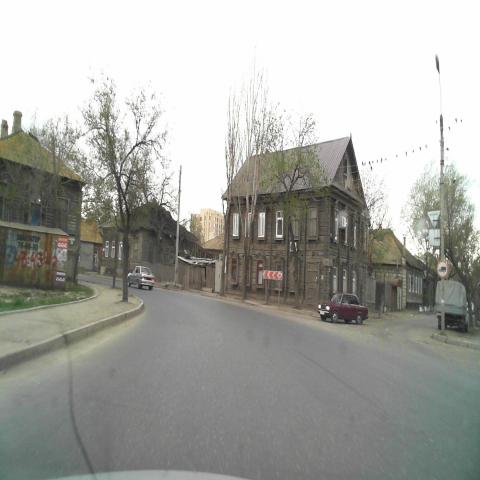3_4_1: (436, 260, 448, 280)
